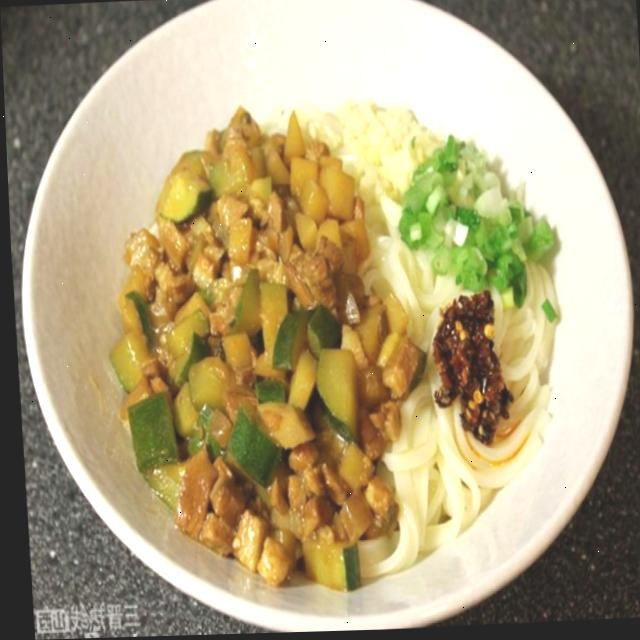面条主食: (11, 0, 632, 635)
